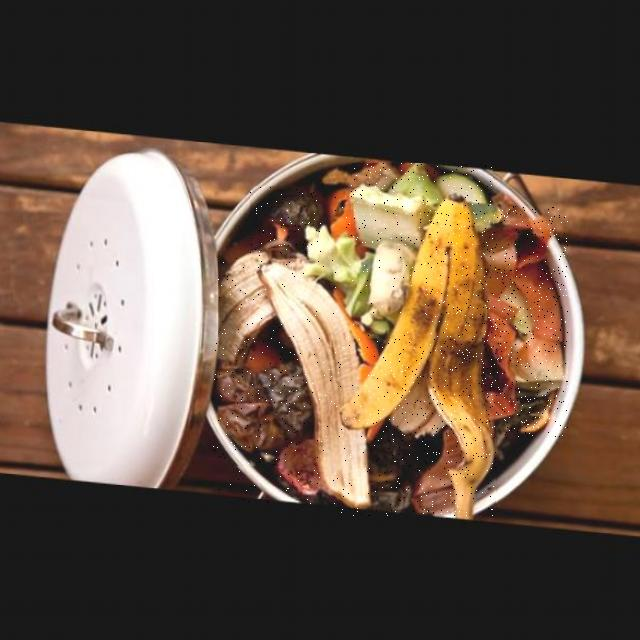biowaste: (342, 196, 496, 516), (219, 251, 372, 506), (480, 206, 568, 437), (302, 183, 425, 337), (213, 337, 303, 466), (353, 163, 493, 245), (250, 186, 326, 254)
